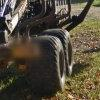tractors: (0, 0, 77, 91)
